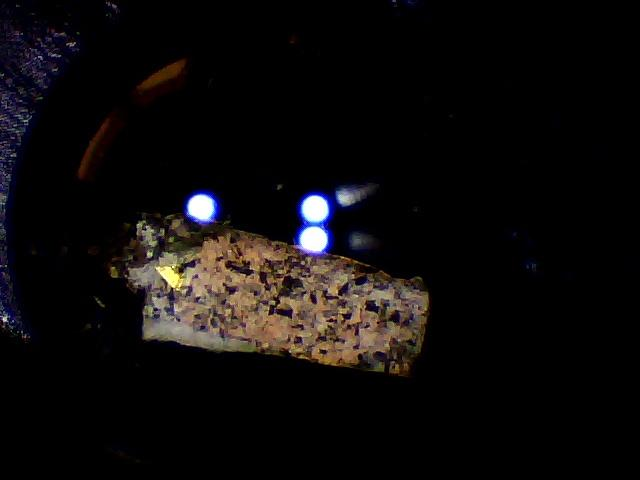megot: (86, 196, 448, 389)
